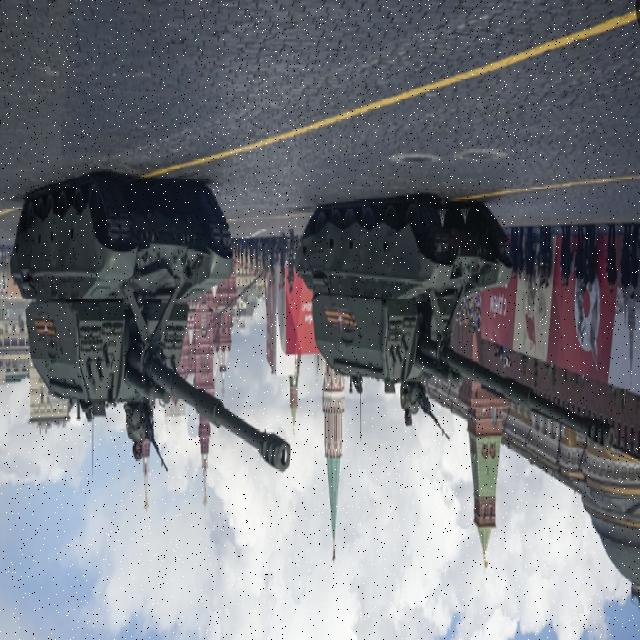ART: (11, 170, 290, 479), (296, 195, 616, 461)
